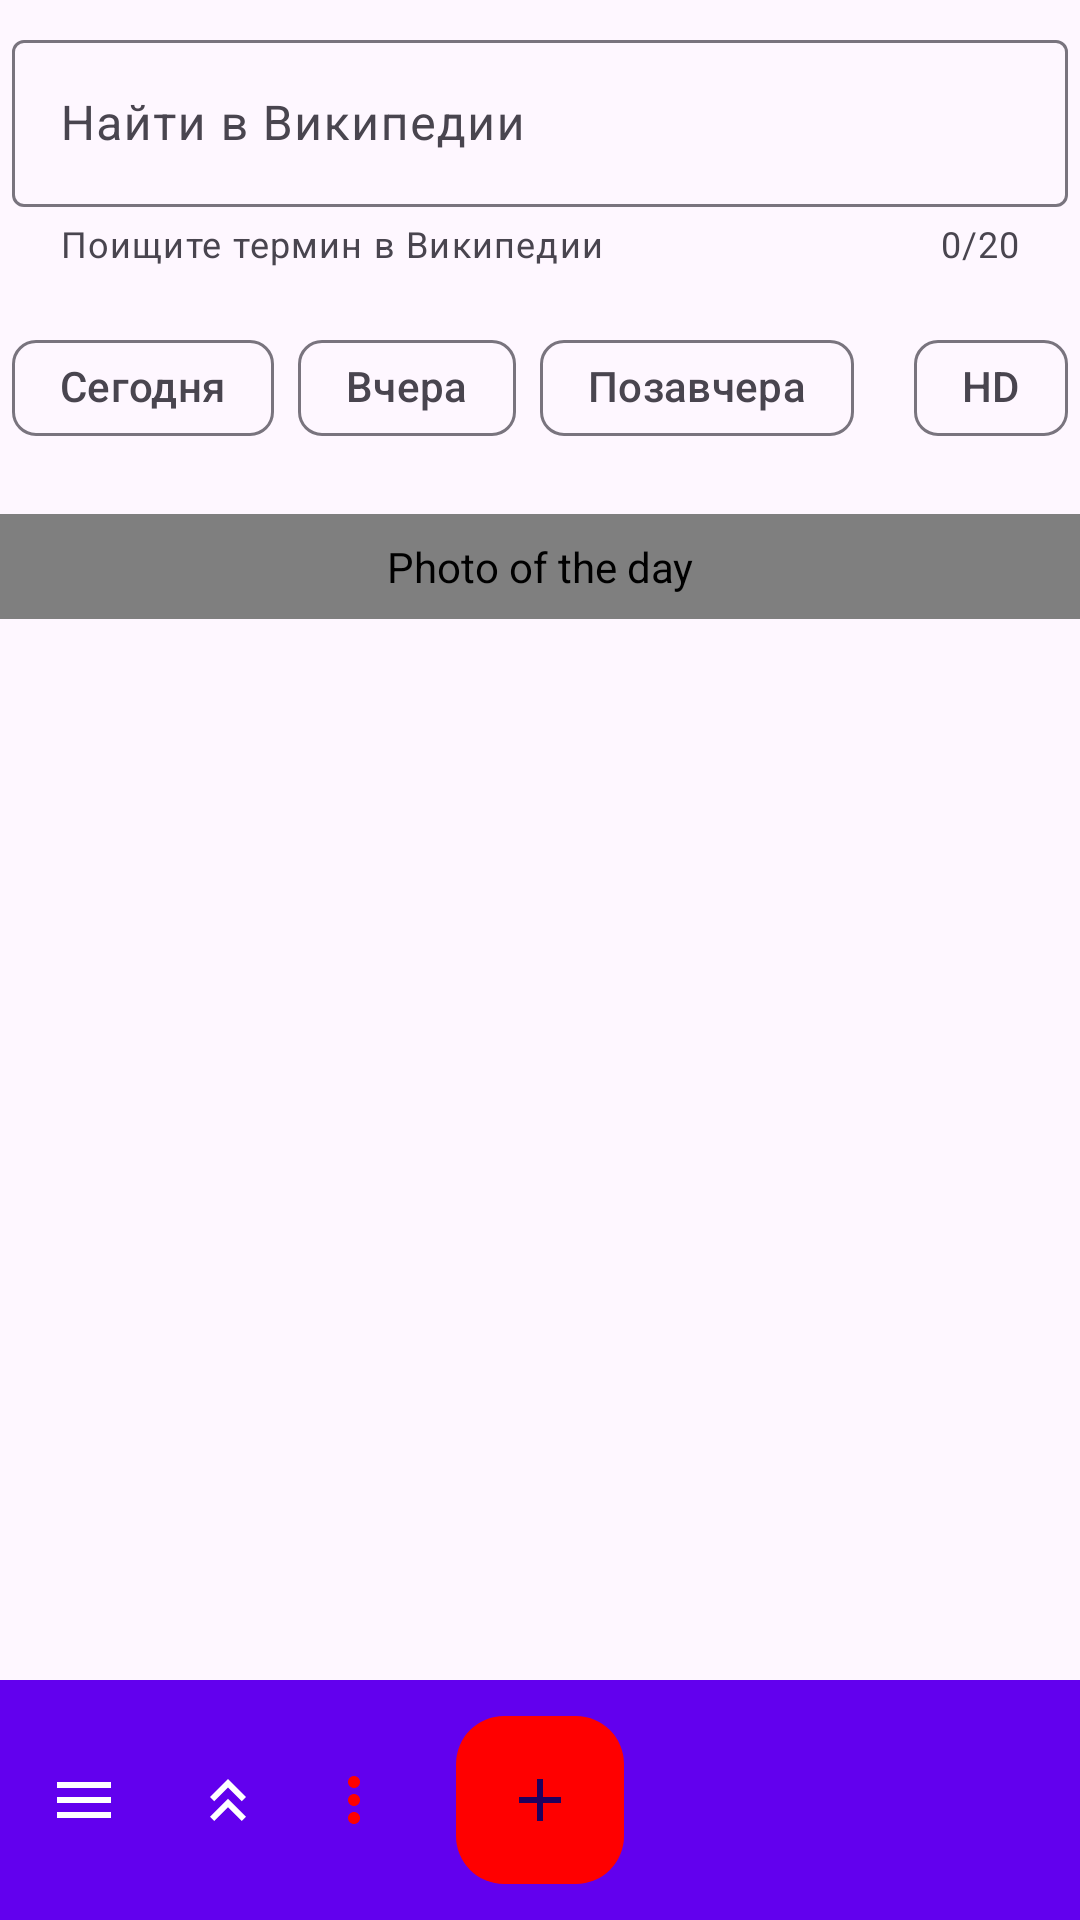

Screen size 1080w x 1920h. Icon name, then its box in pixels as (x1, y1, x2, y2):
Добавить контент: (456, 1752, 624, 1884)
